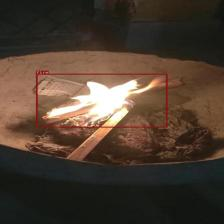fire: (36, 74, 167, 127)
